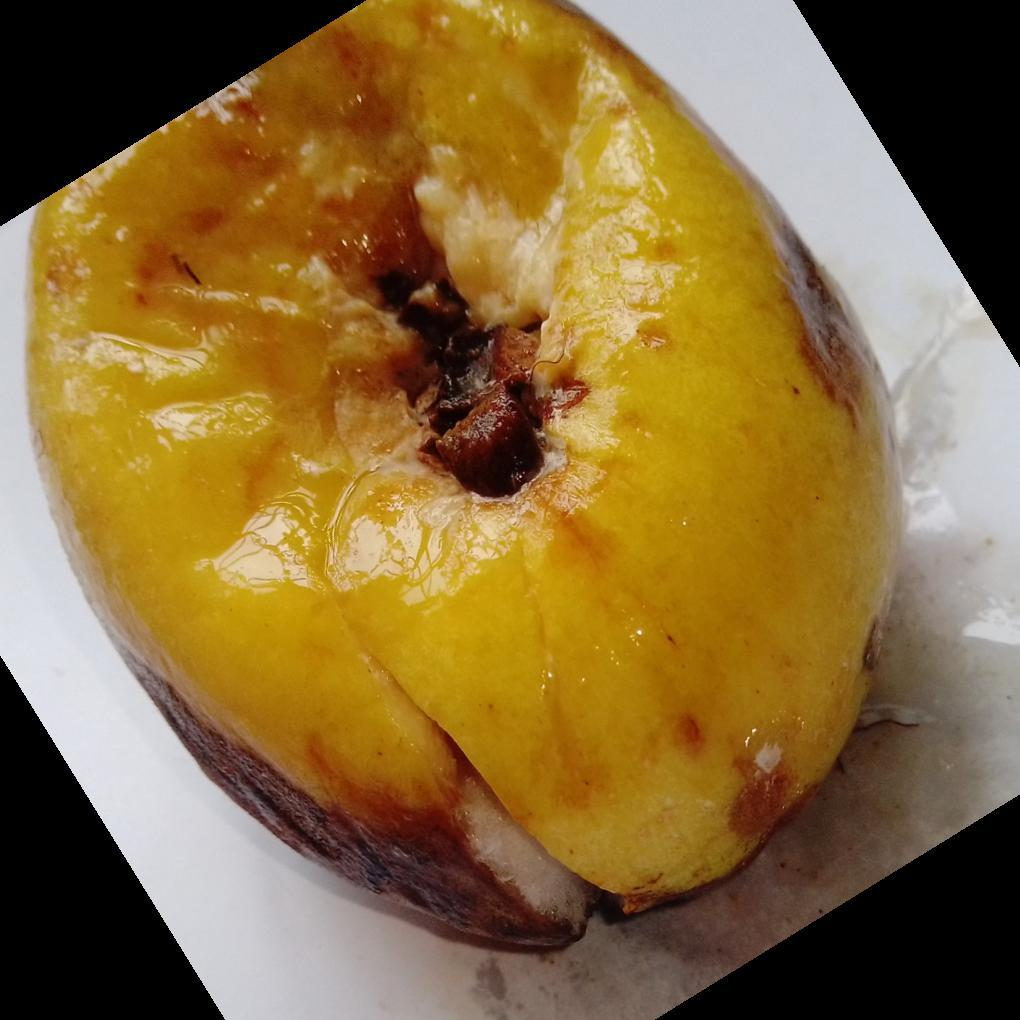FreshOrange: (25, 0, 903, 962)
